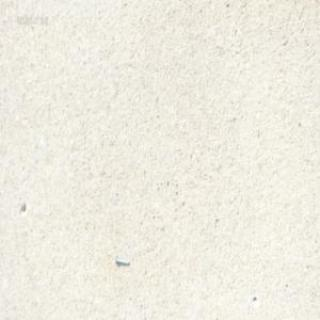Nailtrack_idkeyframe: (113, 254, 129, 265)
